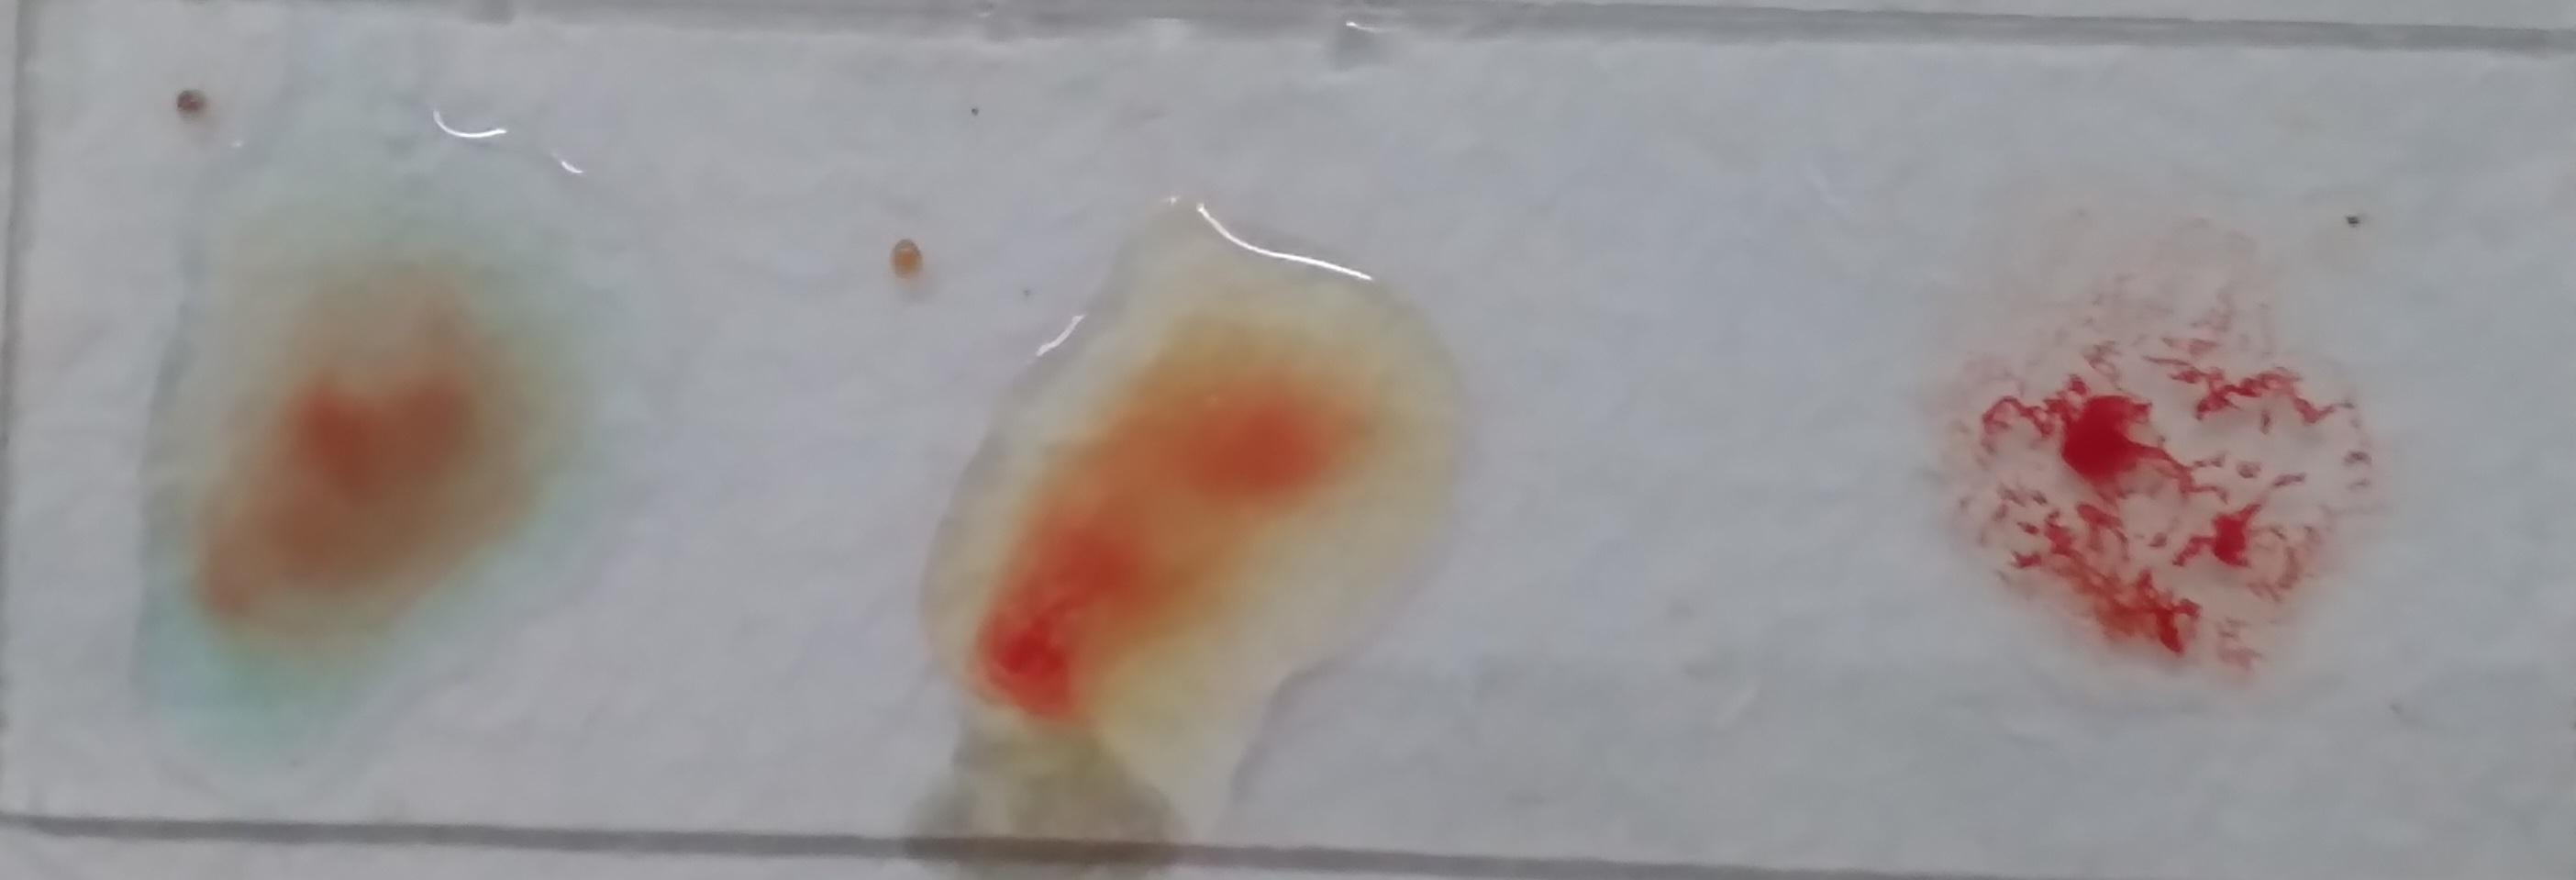D: (197, 177, 647, 604)
